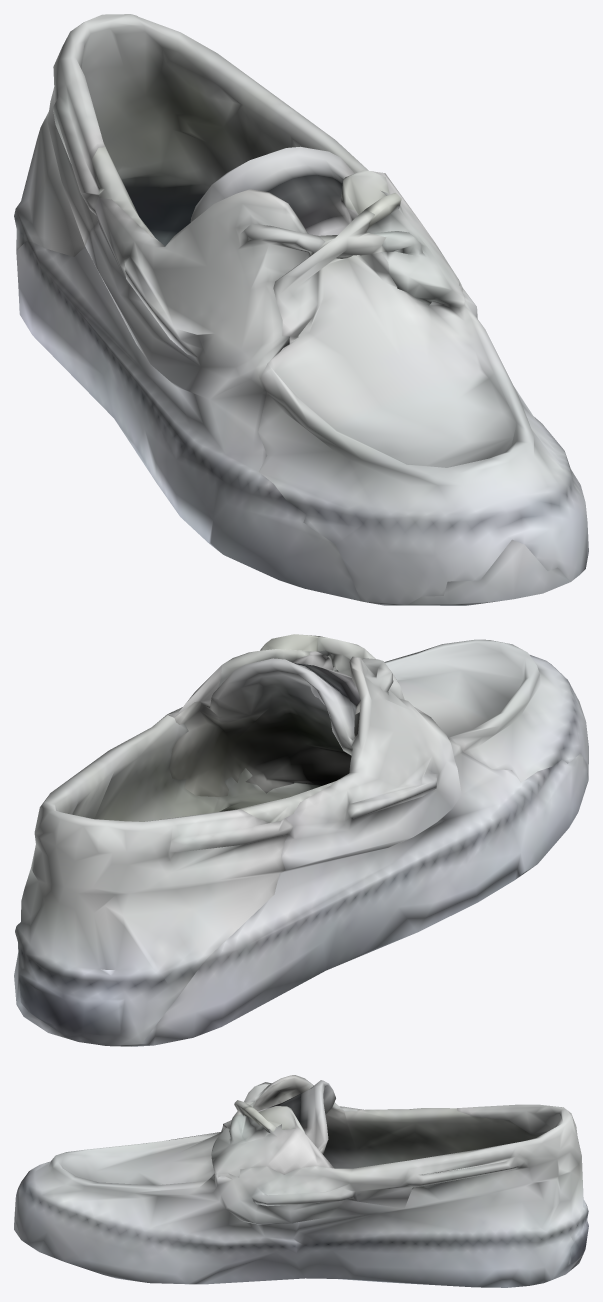
Rendered from Womens_Canvas_Bahama_in_White_4UyOhP6rYGO-medium.glb.
3 views of the same model, one above another, from view 1: azimuth 30°, elevation 25°; view 2: azimuth 150°, elevation 25°; view 3: azimuth 270°, elevation 25° (orthographic). The views are drawn at different scales.
Visible parts, largest first — view 1: Womens_Canvas_Bahama_in_White_4UyOhP6rYGO; view 2: Womens_Canvas_Bahama_in_White_4UyOhP6rYGO; view 3: Womens_Canvas_Bahama_in_White_4UyOhP6rYGO.
Part boxes in pixels (left/top/right/bottom): Womens_Canvas_Bahama_in_White_4UyOhP6rYGO: left=14, top=14, right=588, bottom=605; Womens_Canvas_Bahama_in_White_4UyOhP6rYGO: left=14, top=634, right=588, bottom=1046; Womens_Canvas_Bahama_in_White_4UyOhP6rYGO: left=14, top=1075, right=588, bottom=1287.
Bounding box in the file's own units: 0.09 × 0.0798 × 0.2446.
1 material, 1 textured.
